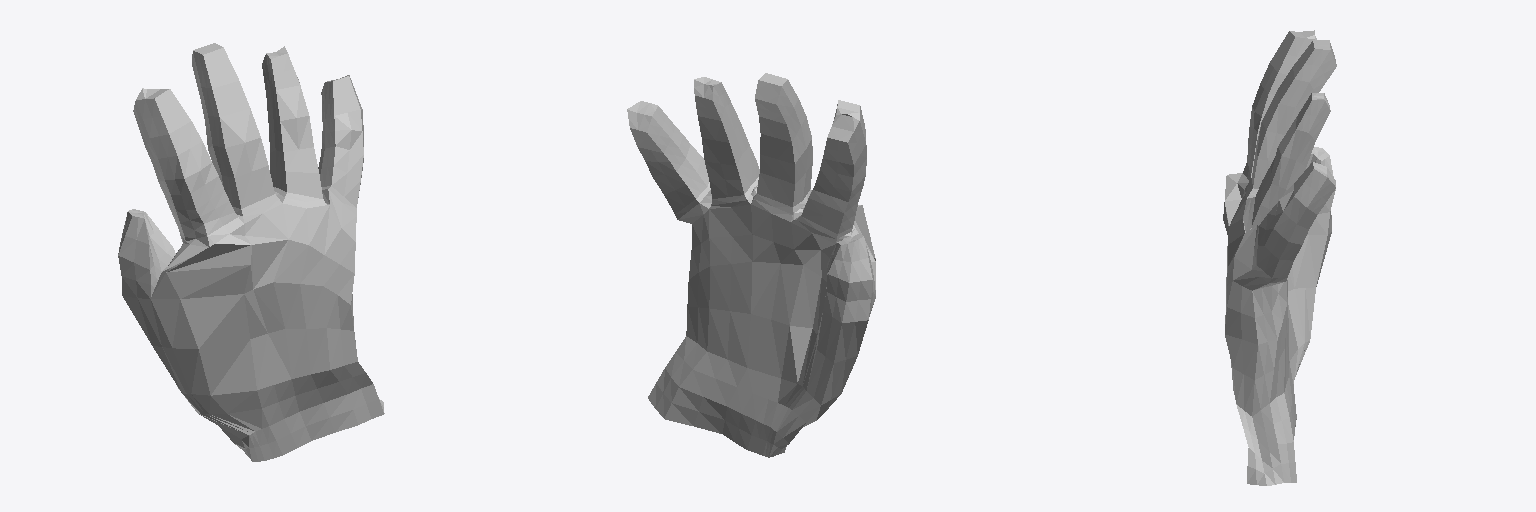
The model's file is grip0013.obj.
3 renders of one model, left to right at view 1: azimuth 30°, elevation 25°; view 2: azimuth 150°, elevation 25°; view 3: azimuth 270°, elevation 25°, orthographic.
Parts seen in each view (by area): view 1: Hand; view 2: Hand; view 3: Hand.
Boxes of the visible parts, x1,y1,x2,y2 form: Hand: [118, 43, 384, 461]; Hand: [627, 73, 875, 457]; Hand: [1223, 30, 1336, 485].
Size of the model in its own units: 3.06 by 4.8 by 1.24.